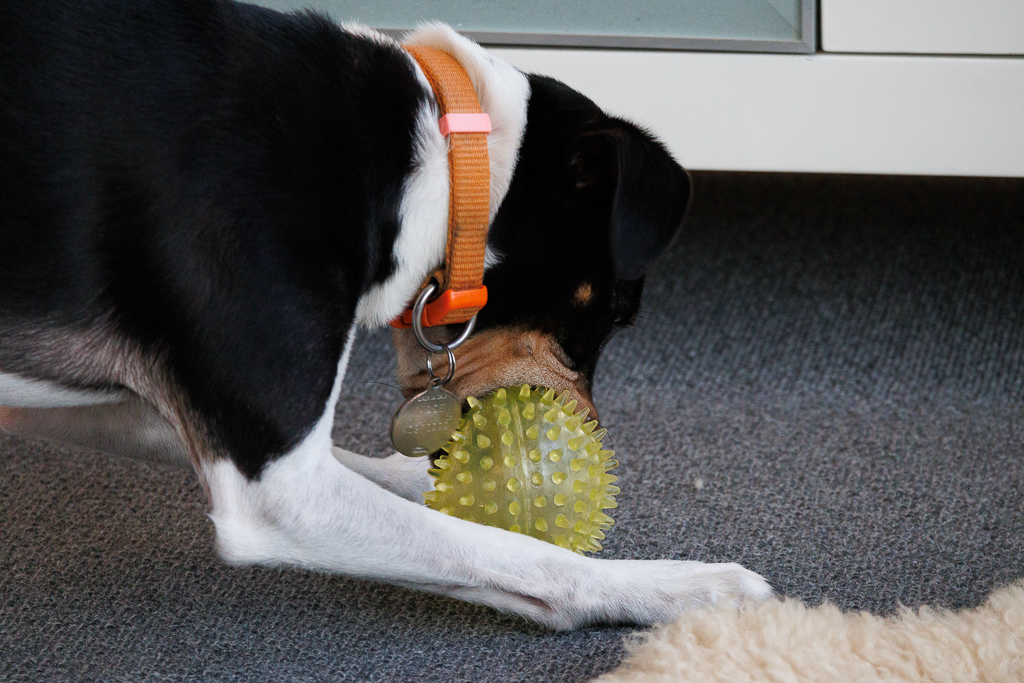Dog: (0, 0, 804, 647)
